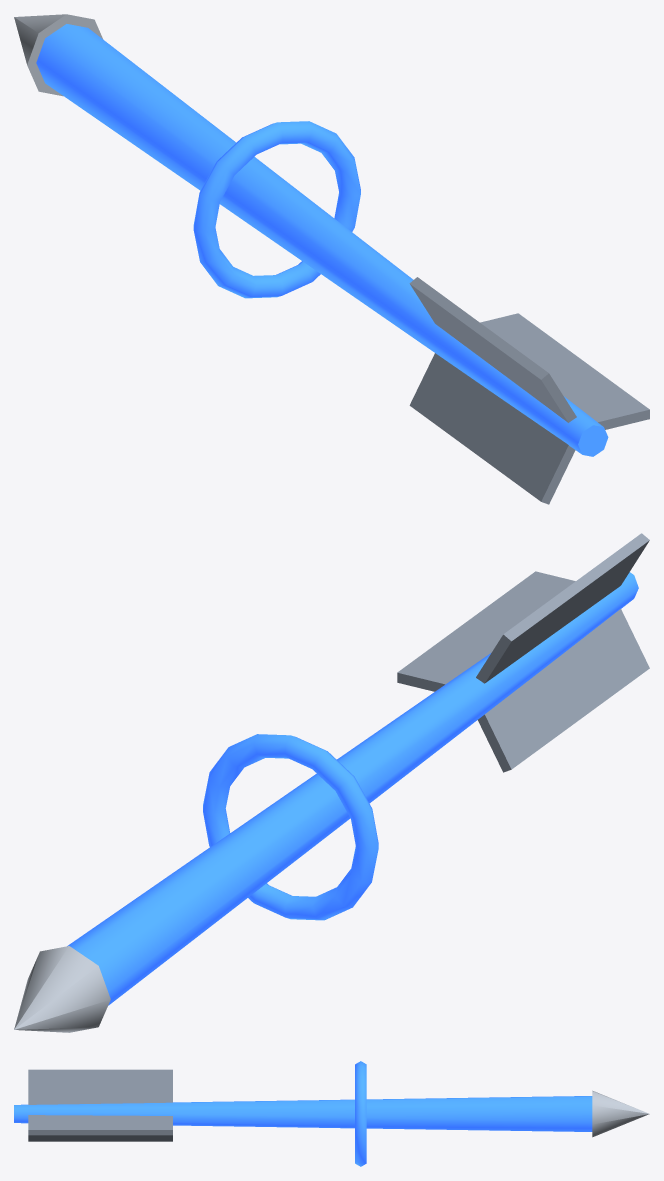
File: proj_lance_bolt_t3.glb
3 renders of one model, top to bottom at view 1: azimuth 30°, elevation 25°; view 2: azimuth 150°, elevation 25°; view 3: azimuth 270°, elevation 25°, orthographic. The views are drawn at different scales.
Parts seen in each view (by area): view 1: proj_lance_bolt_t3_core, proj_lance_bolt_t3_fin2, proj_lance_bolt_t3_ring, proj_lance_bolt_t3_fin0, proj_lance_bolt_t3_fin1, proj_lance_bolt_t3_tip; view 2: proj_lance_bolt_t3_core, proj_lance_bolt_t3_fin2, proj_lance_bolt_t3_ring, proj_lance_bolt_t3_fin0, proj_lance_bolt_t3_tip, proj_lance_bolt_t3_fin1; view 3: proj_lance_bolt_t3_core, proj_lance_bolt_t3_fin1, proj_lance_bolt_t3_fin0, proj_lance_bolt_t3_tip, proj_lance_bolt_t3_ring, proj_lance_bolt_t3_fin2.
Boxes of the visible parts, bbox=[...] form: proj_lance_bolt_t3_core: bbox=[36, 24, 608, 456]; proj_lance_bolt_t3_fin2: bbox=[409, 353, 575, 504]; proj_lance_bolt_t3_ring: bbox=[193, 121, 360, 298]; proj_lance_bolt_t3_fin0: bbox=[480, 313, 649, 429]; proj_lance_bolt_t3_fin1: bbox=[409, 277, 576, 422]; proj_lance_bolt_t3_tip: bbox=[14, 14, 102, 96]; proj_lance_bolt_t3_core: bbox=[67, 572, 638, 1005]; proj_lance_bolt_t3_fin2: bbox=[478, 609, 649, 772]; proj_lance_bolt_t3_ring: bbox=[203, 734, 378, 920]; proj_lance_bolt_t3_fin0: bbox=[397, 571, 575, 691]; proj_lance_bolt_t3_tip: bbox=[14, 946, 110, 1032]; proj_lance_bolt_t3_fin1: bbox=[476, 533, 649, 683]; proj_lance_bolt_t3_core: bbox=[14, 1096, 592, 1131]; proj_lance_bolt_t3_fin1: bbox=[28, 1069, 172, 1104]; proj_lance_bolt_t3_fin0: bbox=[28, 1115, 172, 1135]; proj_lance_bolt_t3_tip: bbox=[592, 1090, 649, 1137]; proj_lance_bolt_t3_ring: bbox=[355, 1061, 366, 1166]; proj_lance_bolt_t3_fin2: bbox=[28, 1135, 172, 1141].
Bounding box in the file's own units: 0.1925 × 0.1925 × 1.15.
